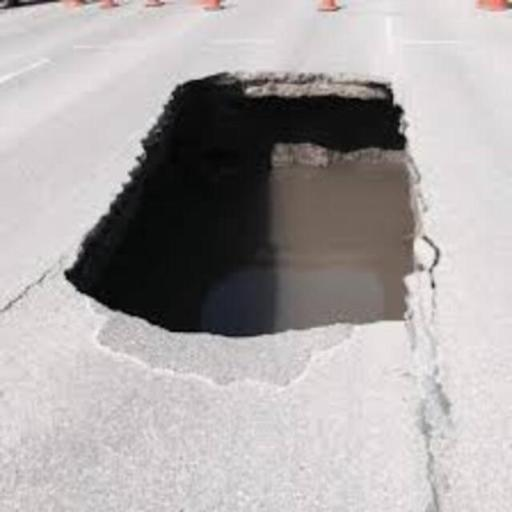Concentric_Crack: (66, 73, 413, 335)
